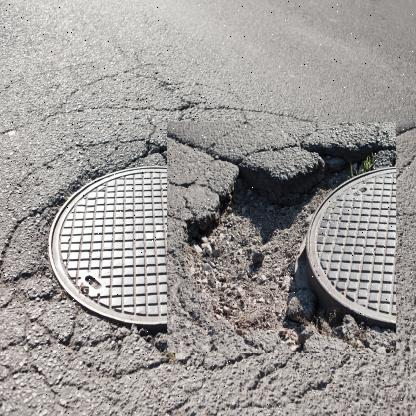pothole: (166, 122, 396, 354)
